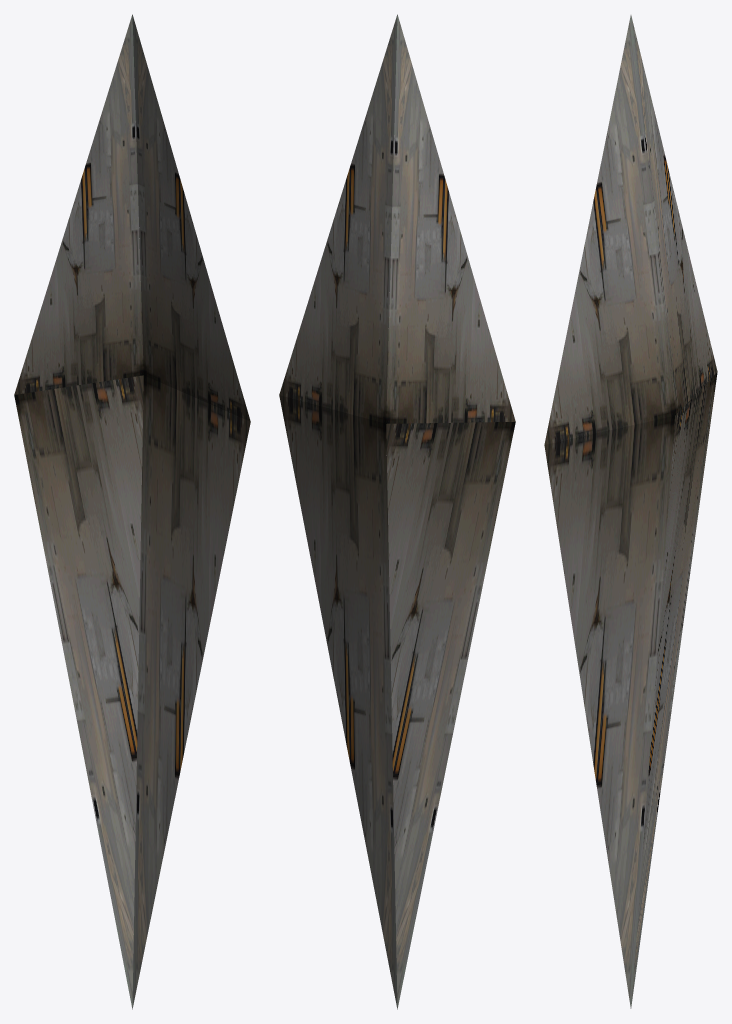
File: Eckverschluß [Favellas]_1121.glb
3 renders of one model, left to right at view 1: azimuth 30°, elevation 25°; view 2: azimuth 210°, elevation 25°; view 3: azimuth 270°, elevation 25°, orthographic.
Parts seen in each view (by area): view 1: pPlaneShape11, pPlaneShape10, pPlaneShape8, pPlaneShape9; view 2: pPlaneShape11, pPlaneShape10, pPlaneShape8, pPlaneShape9; view 3: pPlaneShape10, pPlaneShape9, pPlaneShape11, pPlaneShape8.
Boxes of the visible parts, <box> form: pPlaneShape11: <box>14,375,143,1009</box>; pPlaneShape10: <box>132,375,250,1007</box>; pPlaneShape8: <box>14,14,143,394</box>; pPlaneShape9: <box>132,15,250,421</box>; pPlaneShape11: <box>386,421,515,1009</box>; pPlaneShape10: <box>279,395,397,1007</box>; pPlaneShape8: <box>386,14,515,423</box>; pPlaneShape9: <box>279,15,397,423</box>; pPlaneShape10: <box>544,416,674,1008</box>; pPlaneShape9: <box>544,15,674,444</box>; pPlaneShape11: <box>631,372,717,1008</box>; pPlaneShape8: <box>631,15,717,415</box>.
Bounding box in the file's own units: 0.0549 × 0.3486 × 0.0549.
Materials: 4 (4 with a texture image).
